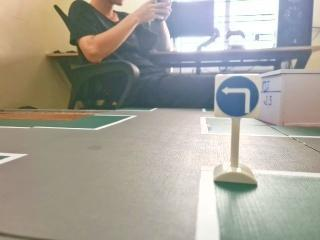left: (213, 73, 262, 119)
